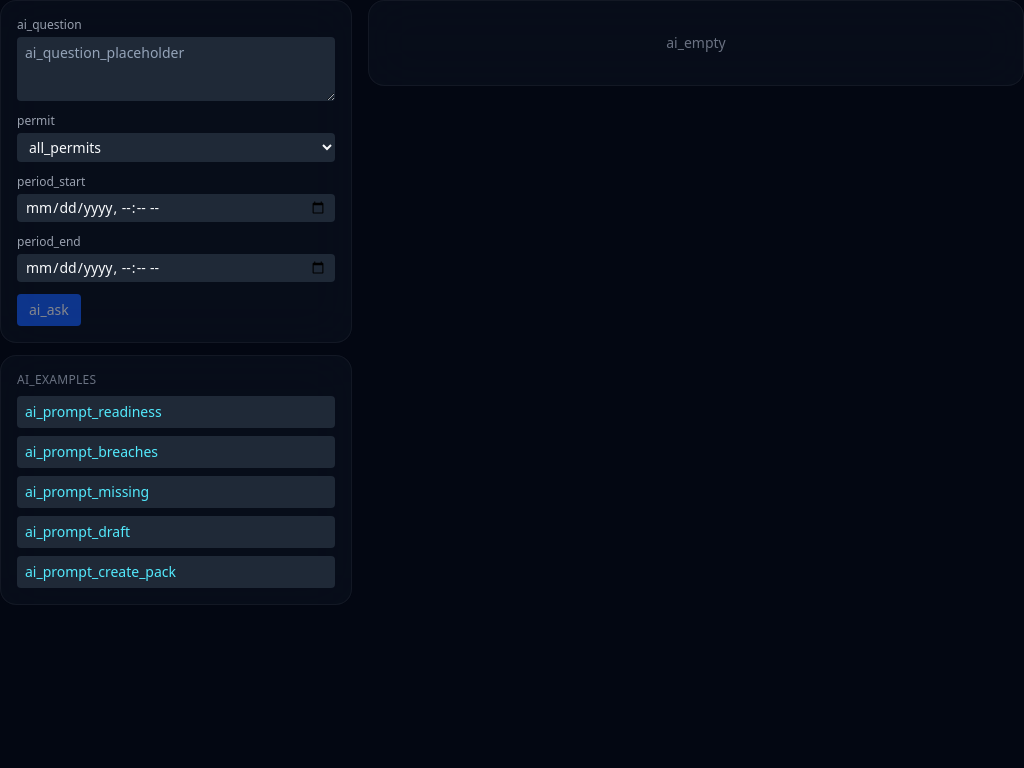
Compliance AssistantTab › hides Save-as-note from a viewer-role user
Click the button "ai_prompt_draft".
click(78, 532)  # box 17,516 -> 335,548
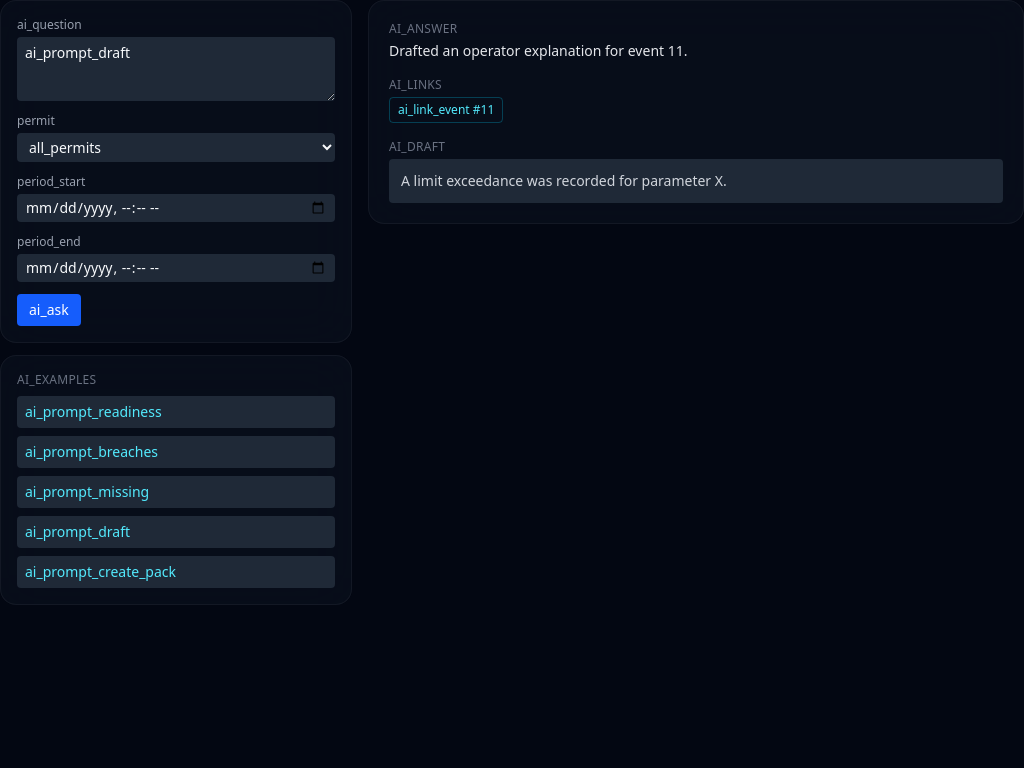
Check: the text "A limit exceedance was recorded for parameter X." is shown, box 389,159 -> 1003,203
